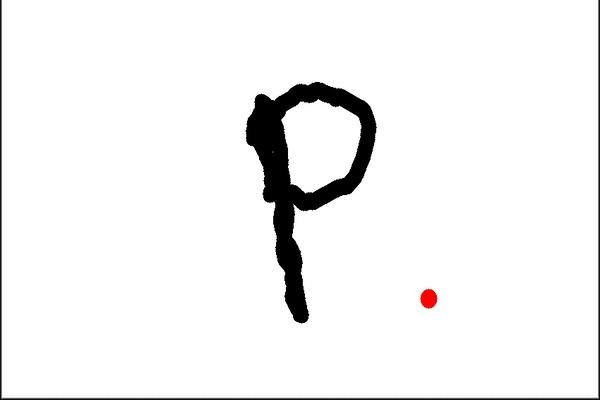P: (235, 72, 386, 330)
